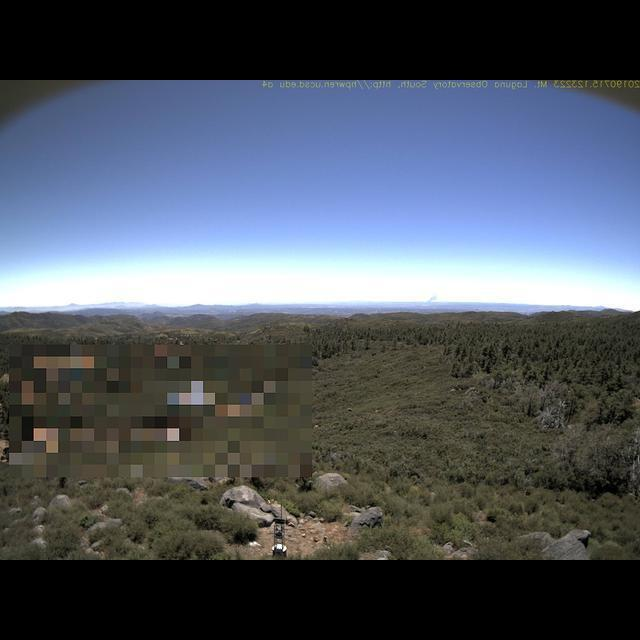Smoke: (421, 289, 444, 308)
